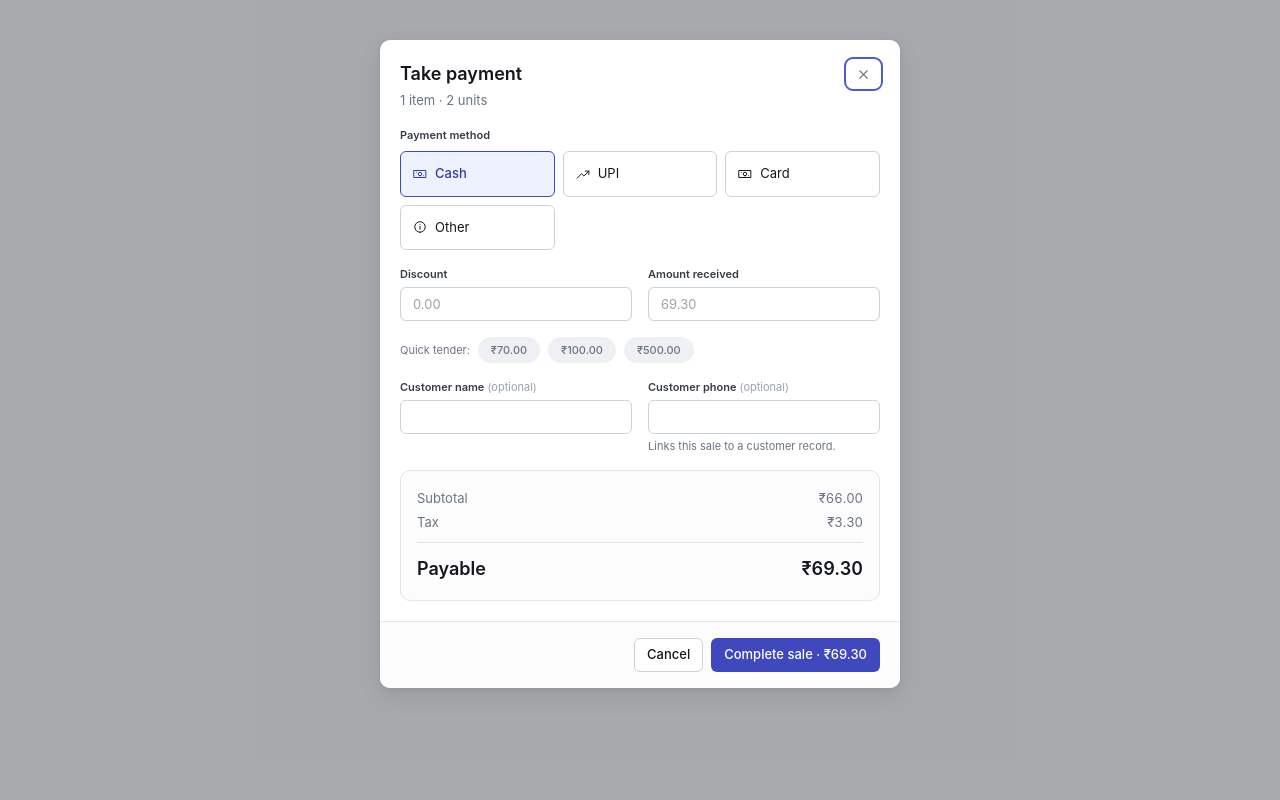
Test: Checkout modal › calculates the change to return
This screenshot has width=1280, height=800.
Type "100" into the number field labelled "Amount received" at (764, 304), box left=648, top=286, right=880, bottom=320
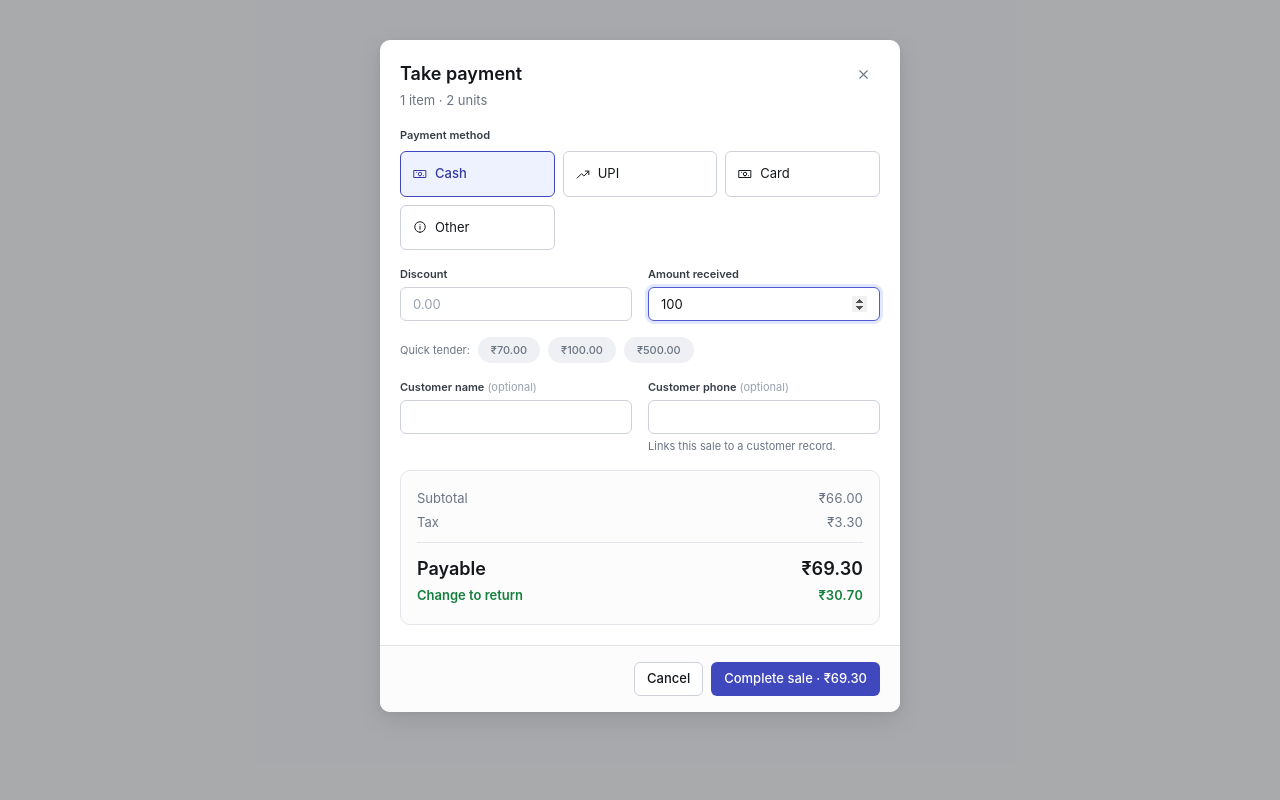
Expected: the text "Change to return" is shown, left=417, top=586, right=523, bottom=606
Expected: the text "₹30.70" is shown, left=819, top=586, right=863, bottom=606
